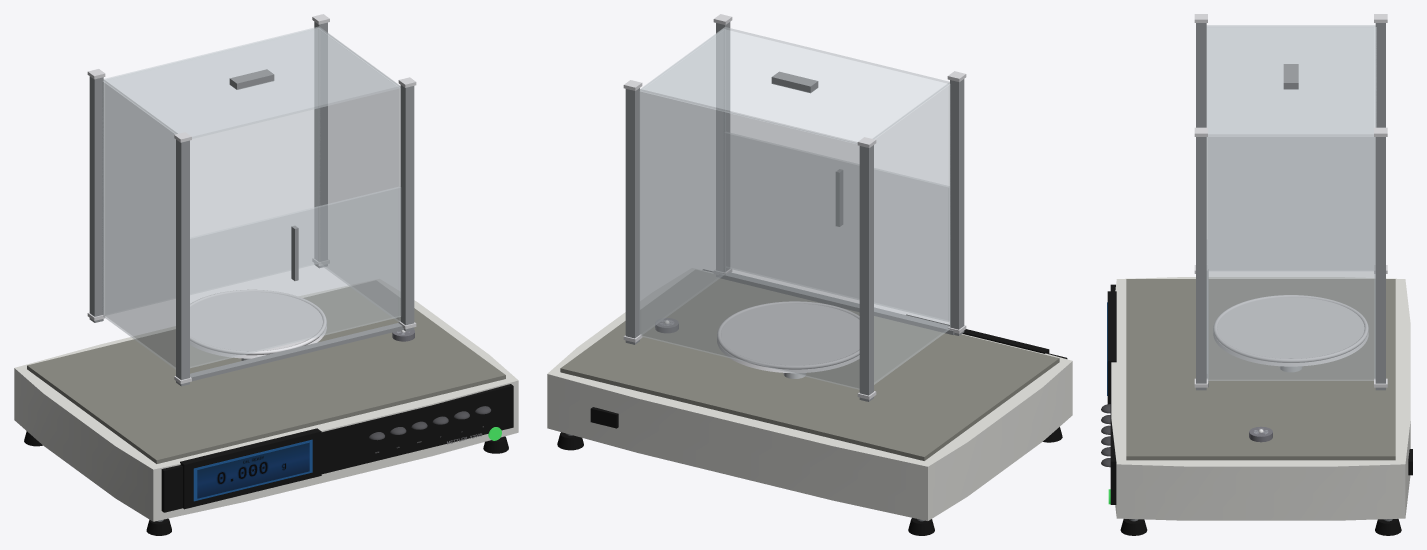
The model's file is 04_analytical_balance.glb.
3 views of the same model, side by side, from view 1: azimuth 30°, elevation 25°; view 2: azimuth 150°, elevation 25°; view 3: azimuth 270°, elevation 25° (orthographic). The views are drawn at different scales.
Bounding box in the file's own units: 30 × 27.4 × 20.85.
Materials: 35 (8 with a texture image).
